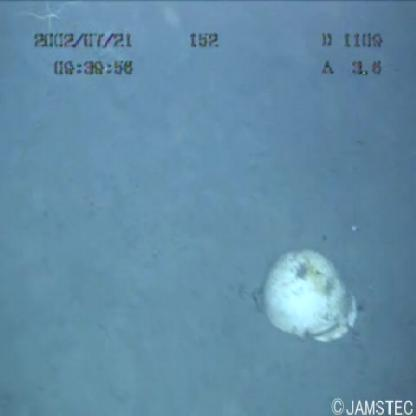Rác: (245, 237, 370, 353)
